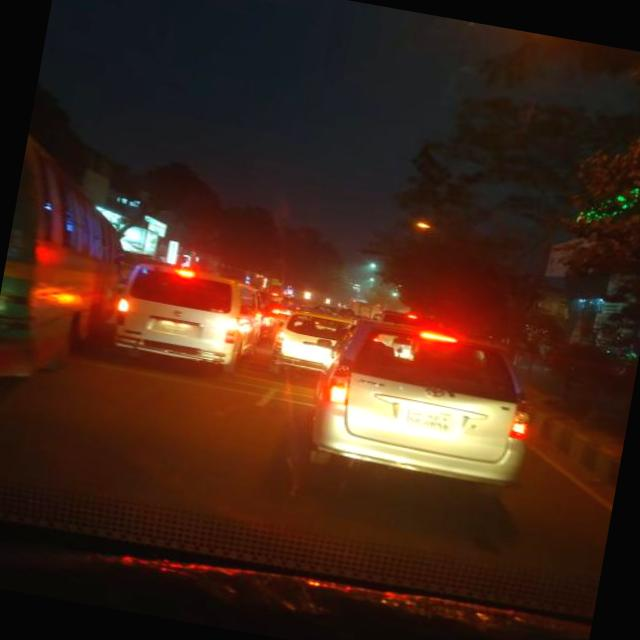bus: (0, 133, 140, 402), (350, 296, 377, 321)
car: (296, 311, 542, 504), (268, 300, 336, 382)
truck: (100, 250, 270, 379)
